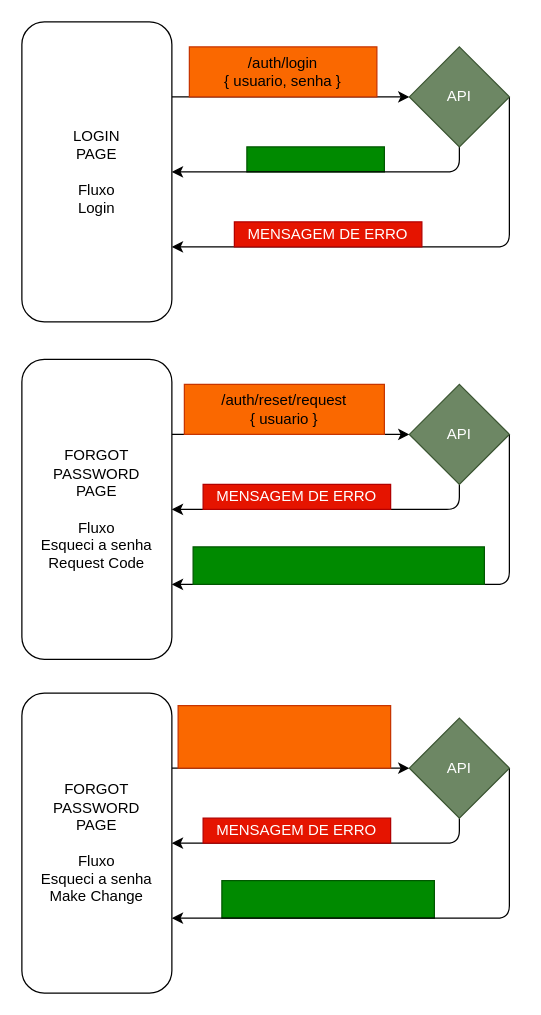
The diagram is 541 pixels wide and 1015 high, and some of its shapes have lost their labels. Each missing label, with the box of its shape:
/auth/reset/make { usuario, code, nova_senha }: (177, 704, 391, 768)
ENVIAR PARA EMAIL/SMS UM CODE DE X DIGITOS: (192, 546, 484, 584)
JWT: (246, 146, 384, 172)
MENSAGEM DE SUCESSO: (221, 879, 434, 918)
